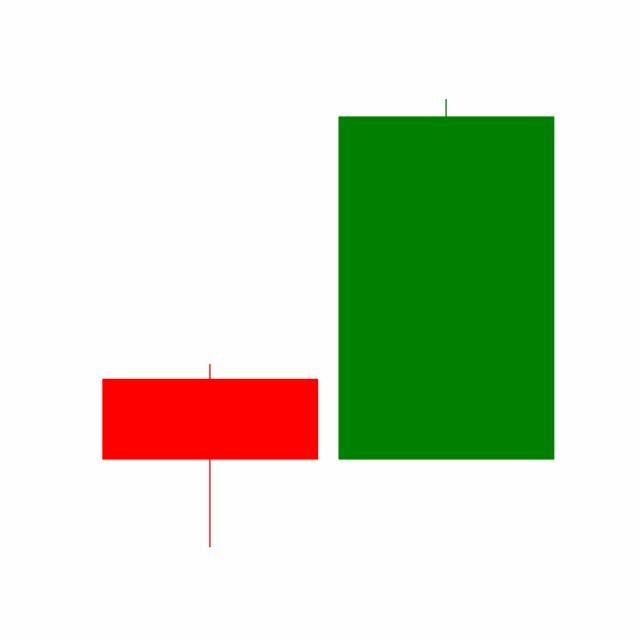Marubozu: (328, 96, 566, 464)
